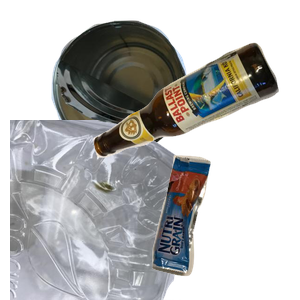glass: (91, 40, 300, 190)
metal: (49, 18, 229, 164)
plastic: (10, 120, 197, 300)
trash: (149, 152, 300, 300)
